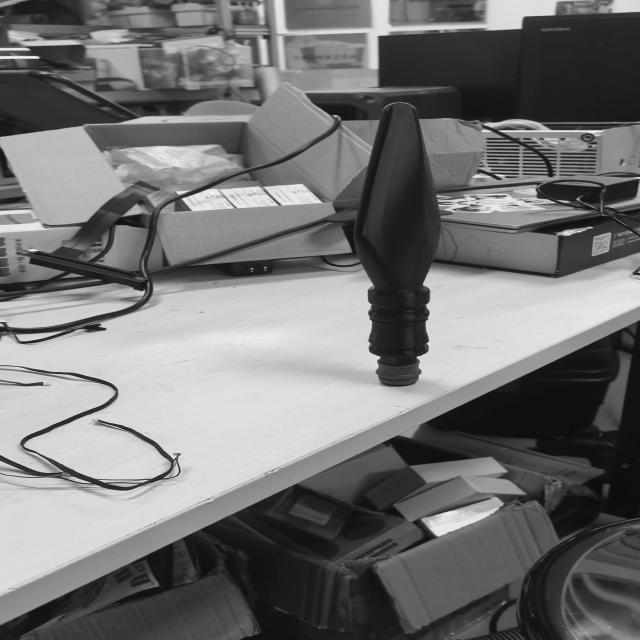base: (371, 358, 425, 386)
